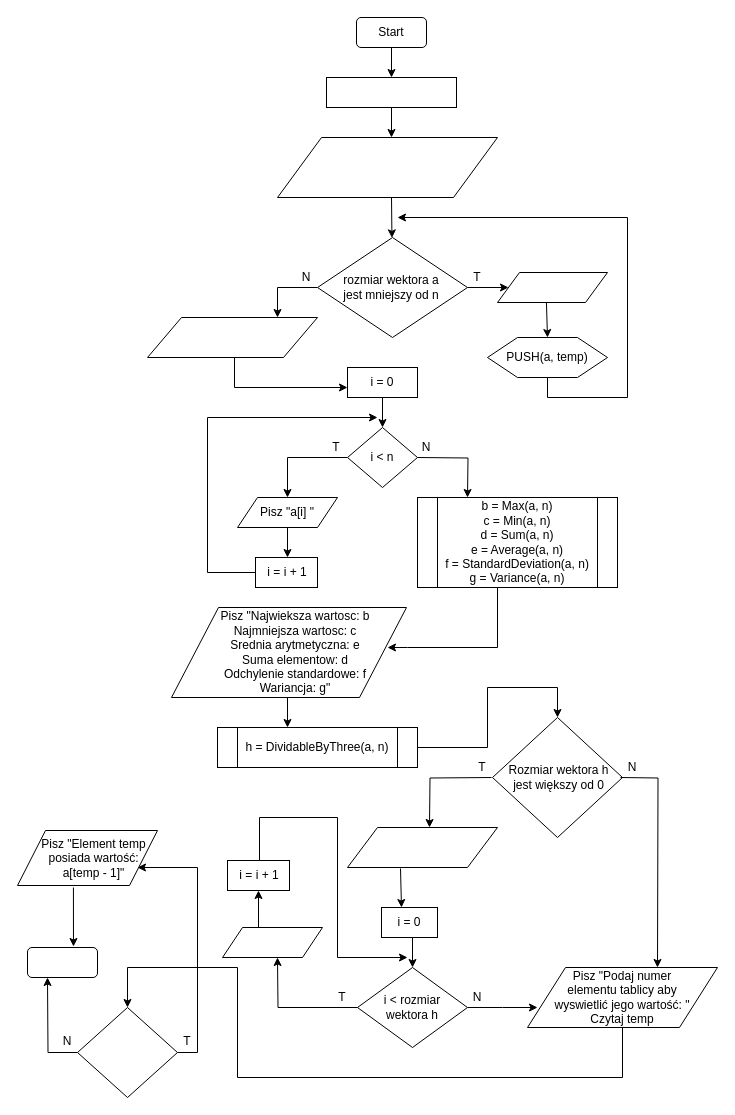
This 735x1115 diagram has some shape labels left out. Here are the shapes that lost their labels. From the top down, the box of each, then its label:
(326, 76, 456, 108): Zainicjuj wektor a
(276, 136, 498, 198): Pisz "Określ rozmiar tablicy: " Czytaj n Pisz "Wypisz liczby: "
(496, 272, 608, 302): Czytaj temp
(146, 316, 318, 358): Pisz "Wpisane liczby:"
(346, 826, 498, 868): Pisz "Liczby podzielne przez 3: "
(26, 946, 98, 978): Stop
(222, 926, 322, 958): Pisz "h[i] "
(76, 1006, 178, 1098): temp > 0 i temp <= n
